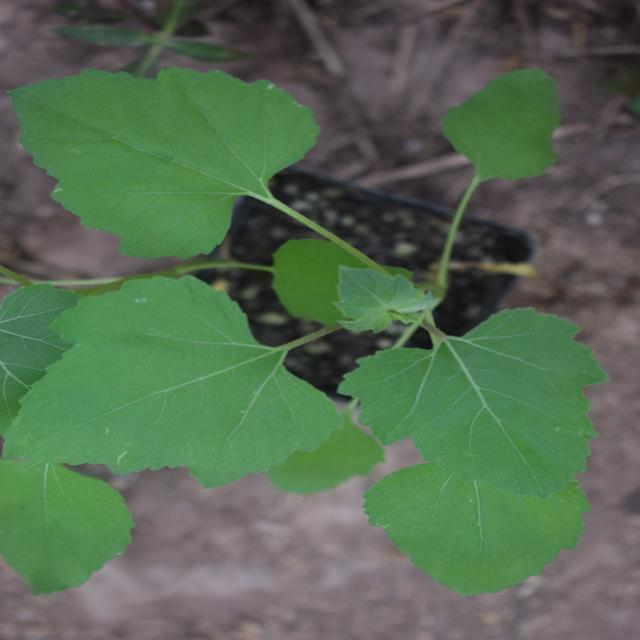cocklebur: (56, 13, 567, 588)
